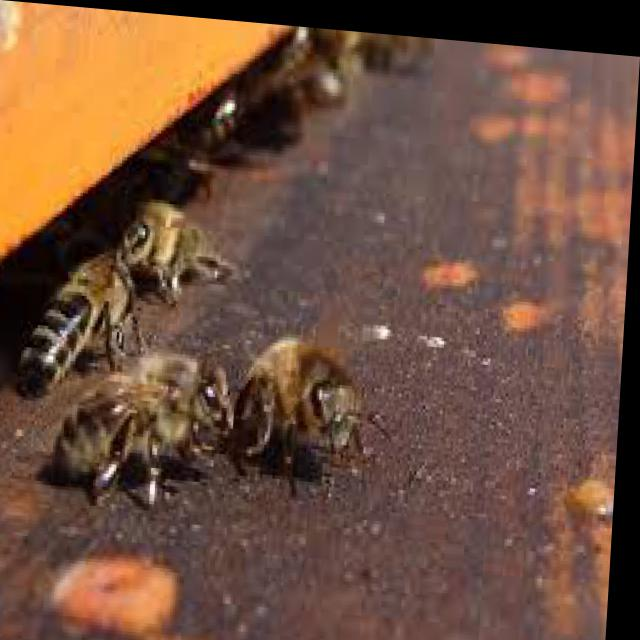Abeille: (47, 329, 248, 521), (230, 312, 400, 491), (16, 226, 150, 390), (111, 175, 269, 298)
